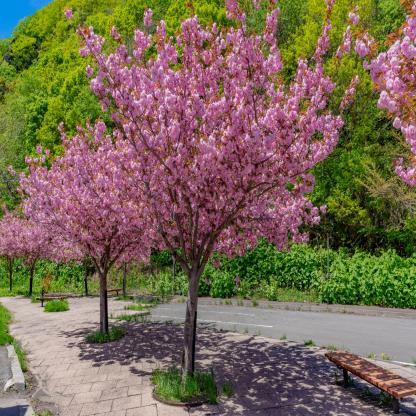YaeSakura: (65, 0, 361, 337), (37, 119, 158, 299), (359, 0, 416, 188), (9, 143, 47, 285), (0, 196, 21, 296)
